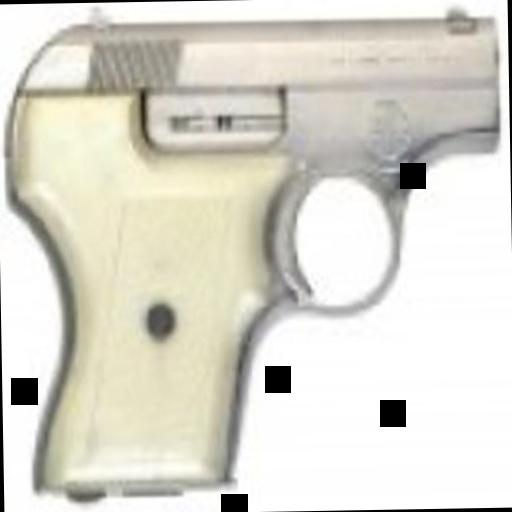Handgun: (7, 3, 495, 497)
